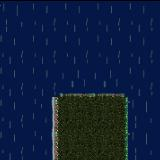Slow: (0, 0, 160, 91), (0, 93, 50, 160), (129, 91, 160, 160)
